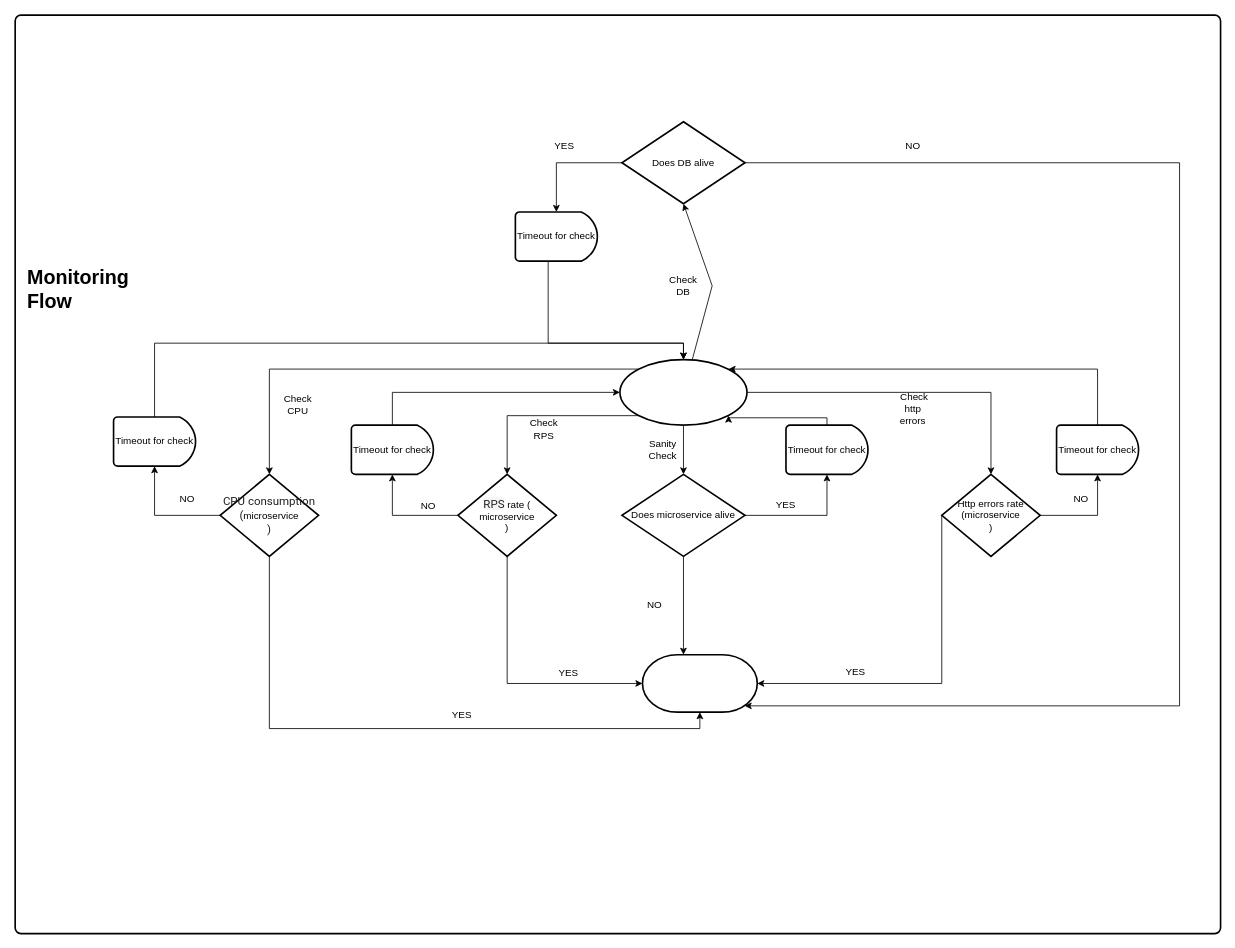
This 1235x948 diagram has some shape labels left out. The shapes that lost their labels are listed below. From the top down, each one's box as (x1, y1, x2, y2) in pixels, then its label:
(619, 358, 747, 426): Monitoring Service
(641, 654, 758, 713): Alert to PagerDuty (manual or automation SOP)
